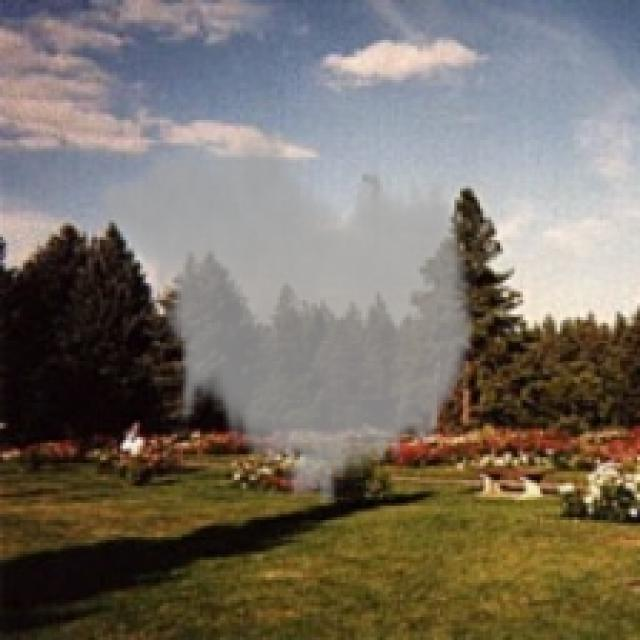Smoke: (94, 114, 480, 512)
